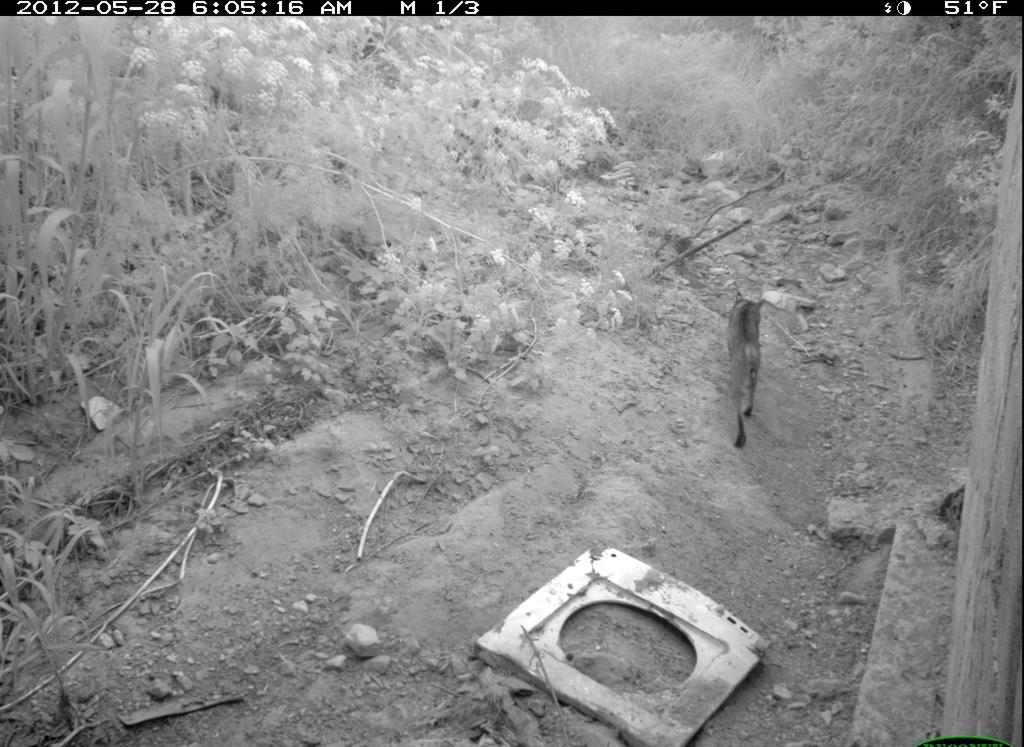bobcat: (715, 278, 775, 447)
